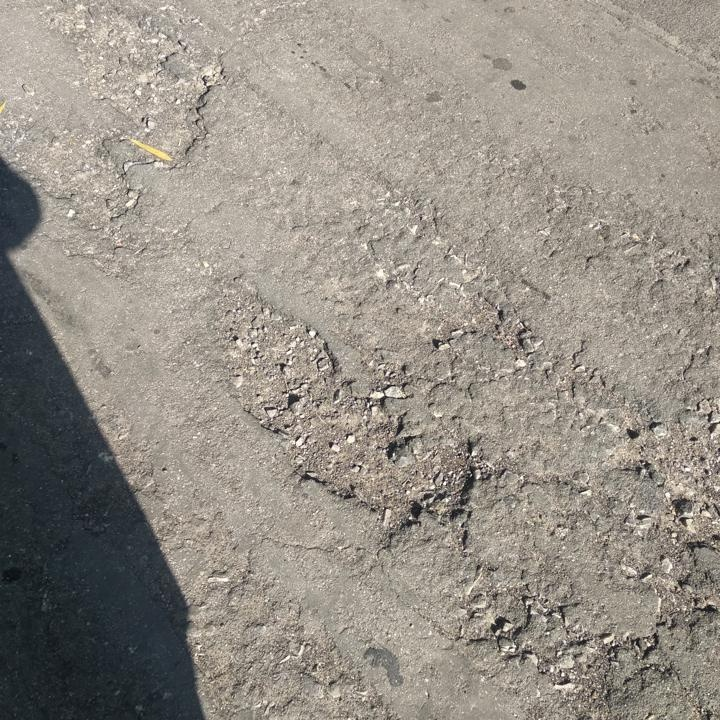pothole: (36, 0, 229, 164), (276, 393, 487, 540), (196, 288, 349, 428), (26, 130, 139, 232)
